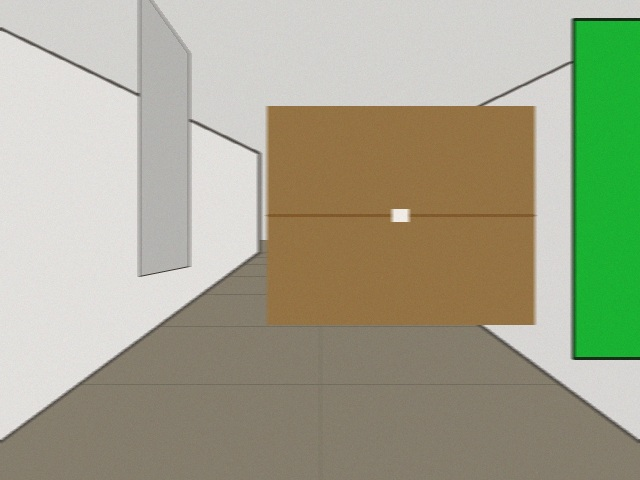box: (267, 106, 534, 324), (279, 149, 459, 297)
charging_station: (573, 19, 639, 358)
directional_sign: (325, 153, 410, 197)
